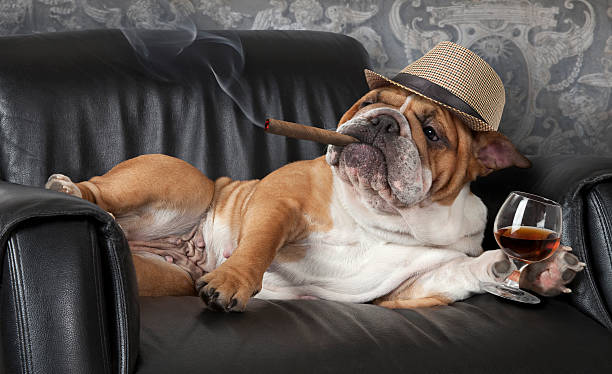alcohol: (475, 189, 565, 305)
cigarette: (264, 118, 361, 148)
